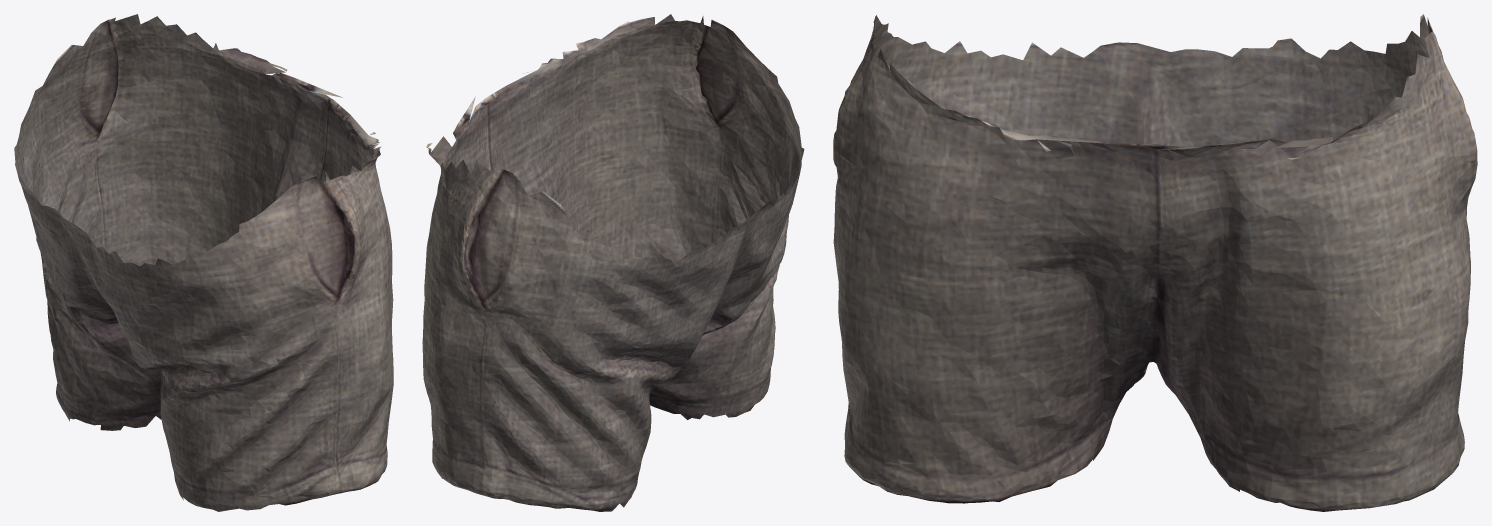
File: lower_uv.obj
3 renders of one model, left to right at view 1: azimuth 30°, elevation 25°; view 2: azimuth 150°, elevation 25°; view 3: azimuth 270°, elevation 25°, orthographic. The views are drawn at different scales.
Size of the model in its own units: 0.2945 by 0.358 by 0.4475.
1 material, 1 textured.
